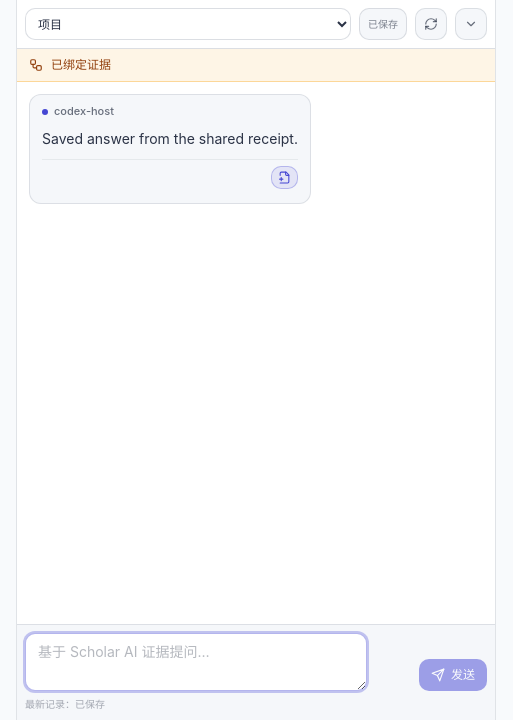
AgentSidebar › shows a localized visual observation read failure
Expected: the text "Saved answer from the shared receipt." is shown, x1=42 y1=127 x2=298 y2=151
Click the button named "显示侧栏工具". click: (471, 24)
box: x1=455 y1=8 x2=487 y2=40
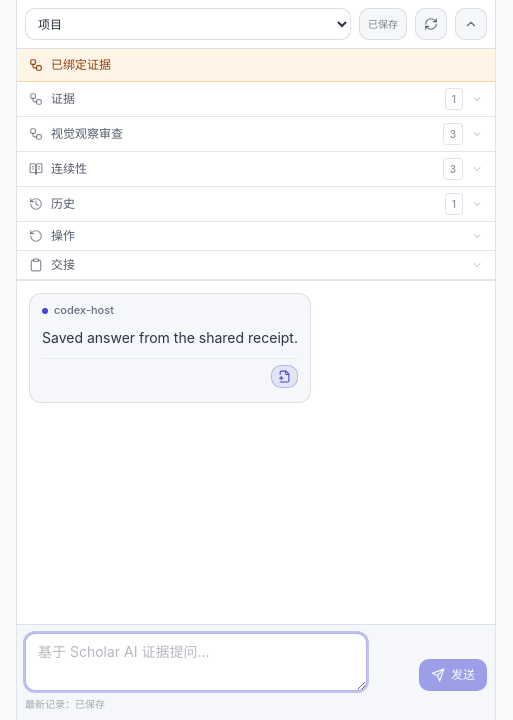
Click the button "视觉观察审查 3". click: (87, 134)
box: x1=17 y1=117 x2=495 y2=151
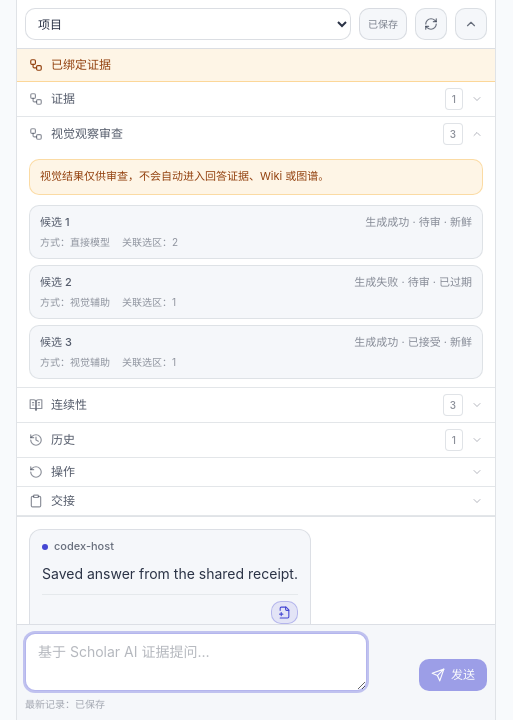
Click the button with aria-label "读取视觉观察候选 1". click: (387, 222)
box: x1=29 y1=205 x2=483 y2=259
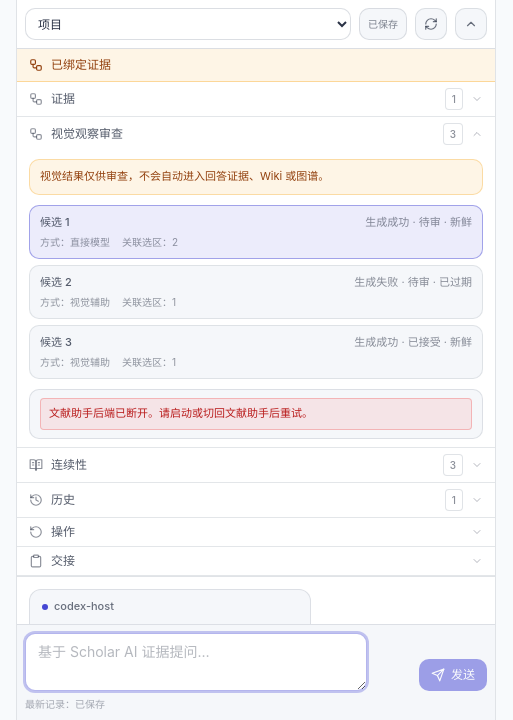
Expected: the text "文献助手后端已断开。请启动或切回文献助手后重试。" is shown, x1=40 y1=398 x2=472 y2=430
